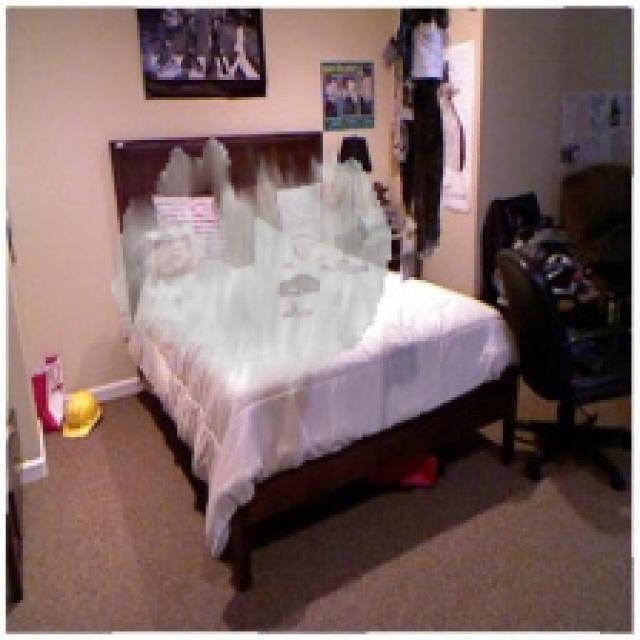Smoke: (111, 137, 392, 400)
